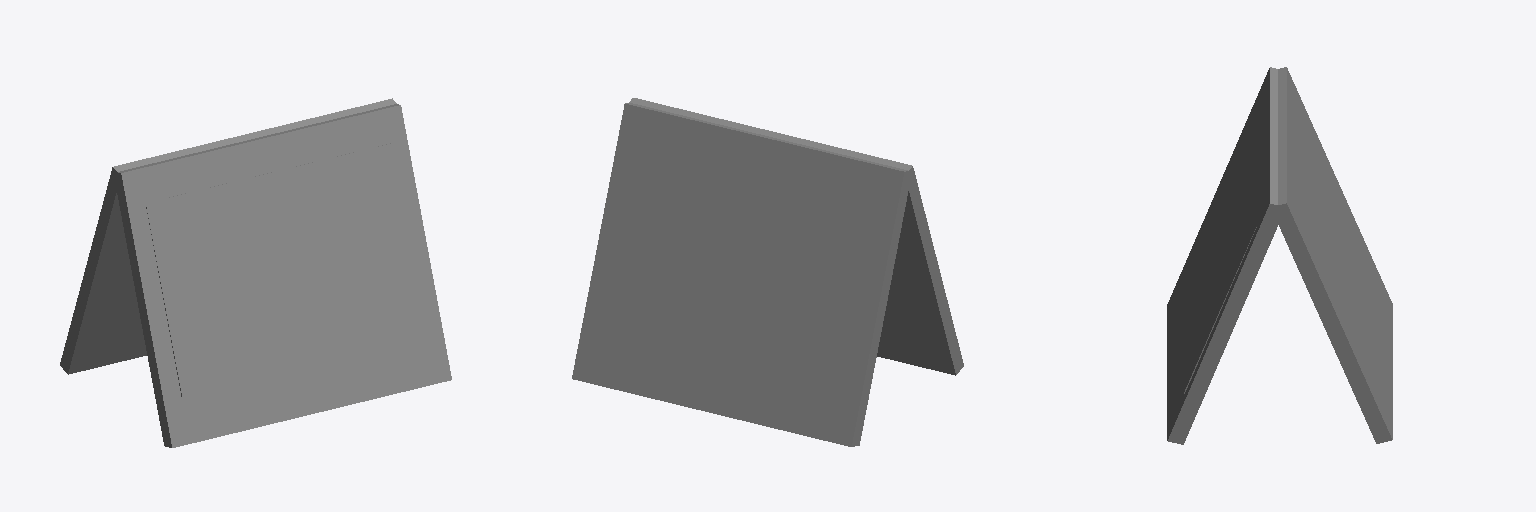
File: standMadera_Carrucel.obj
The picture shows the model from 3 angles: view 1: azimuth 30°, elevation 25°; view 2: azimuth 150°, elevation 25°; view 3: azimuth 270°, elevation 25°; orthographic projection.
Visible parts, largest first — view 1: Box005, letrero001, Box004; view 2: Box004, letrero001; view 3: Box004, letrero001, Box005.
Part boxes in pixels (left/top/right/bottom): Box005: left=146, top=143, right=429, bottom=396; letrero001: left=113, top=104, right=451, bottom=447; Box004: left=60, top=98, right=396, bottom=374; Box004: left=572, top=103, right=911, bottom=446; letrero001: left=629, top=98, right=963, bottom=375; Box004: left=1271, top=67, right=1392, bottom=443; letrero001: left=1167, top=67, right=1285, bottom=444; Box005: left=1184, top=106, right=1256, bottom=393.
Size of the model in its own units: 4.05 by 3.34 by 2.82.